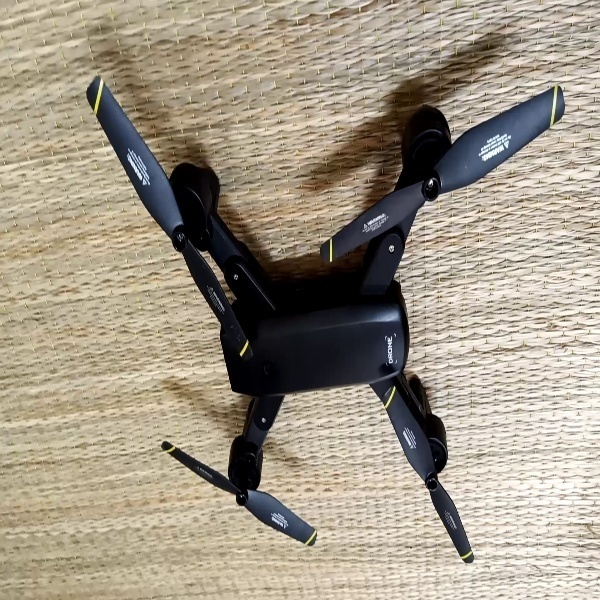drone: (77, 70, 567, 567)
